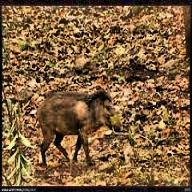boar: (29, 66, 128, 163)
